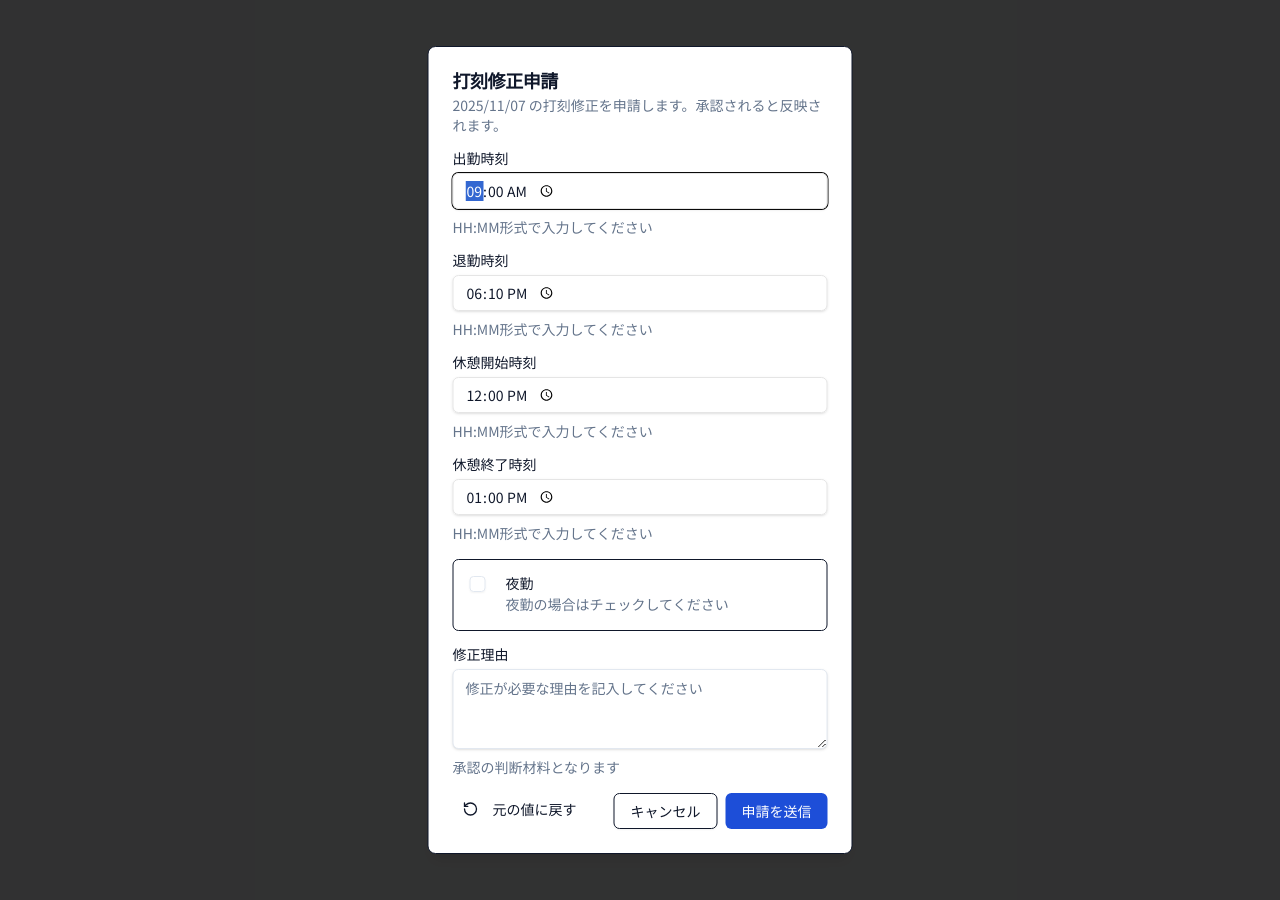
Test: RequestCorrectionModal › shows validation error when reason is too short
Type "短い" into the text box labelled "修正理由". click: (640, 709)
box: x1=452 y1=669 x2=828 y2=749
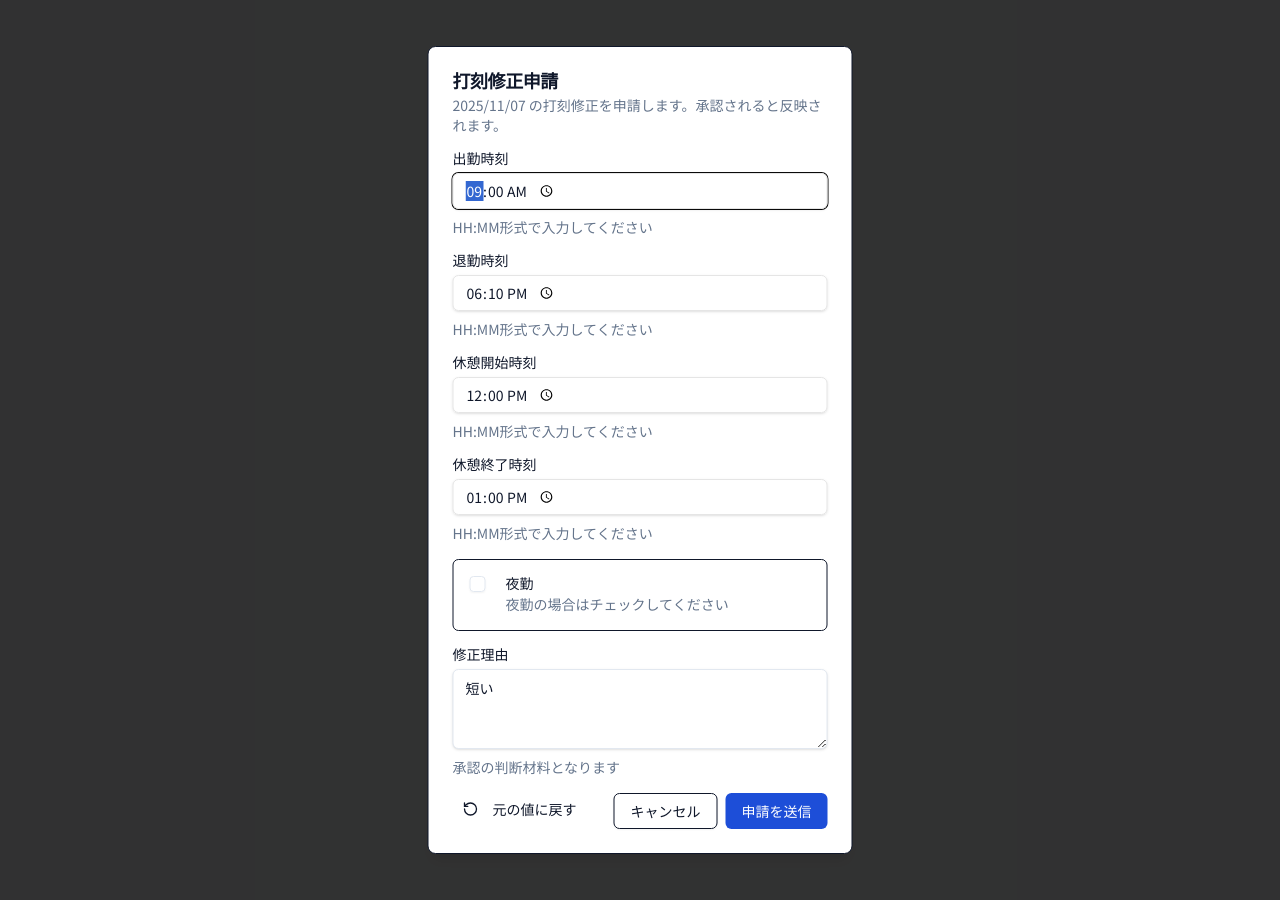
Click the button "申請を送信". click: (776, 811)
box: x1=726 y1=793 x2=828 y2=829
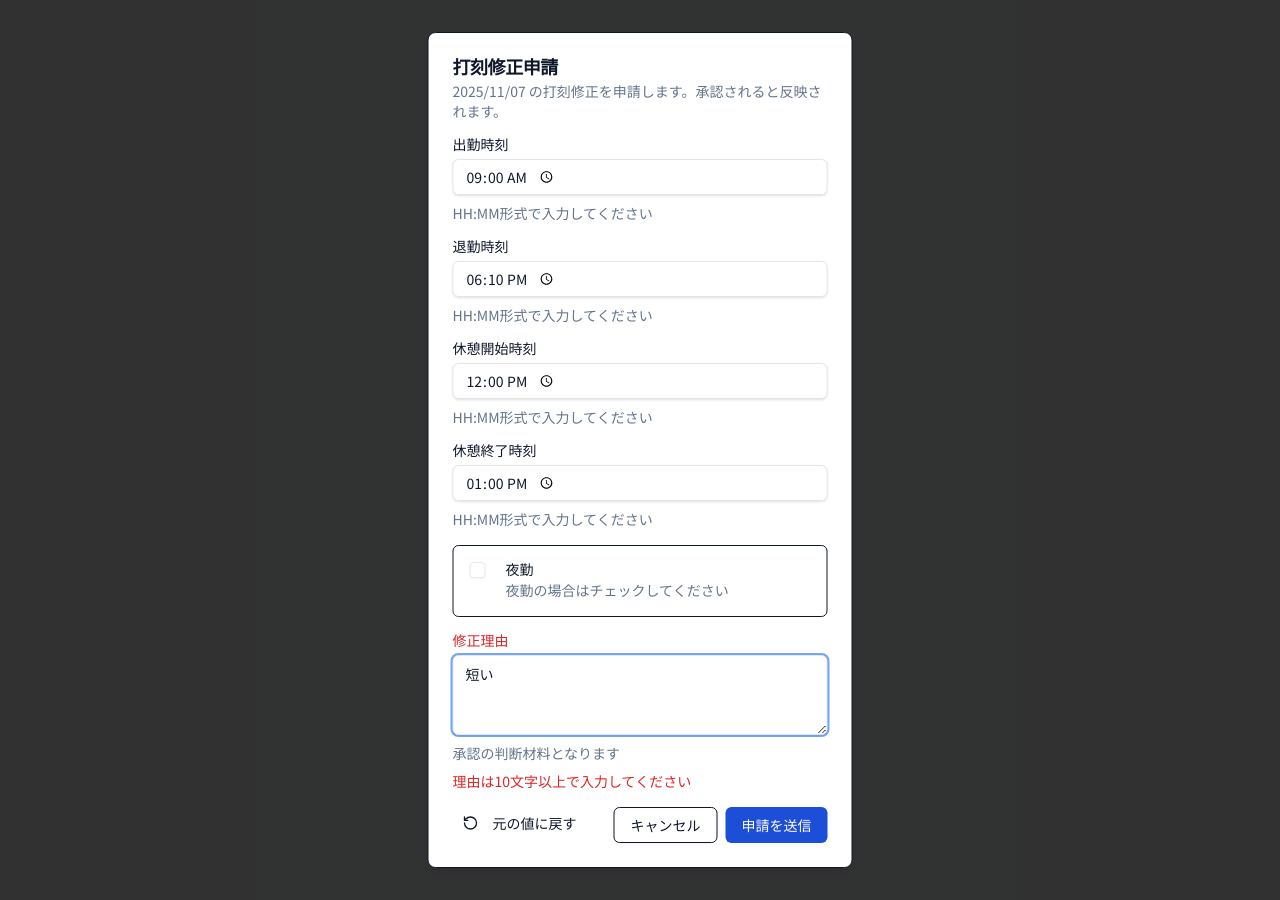
Expected: the text "理由は10文字以上で入力してください" is shown, x1=452 y1=771 x2=691 y2=791
